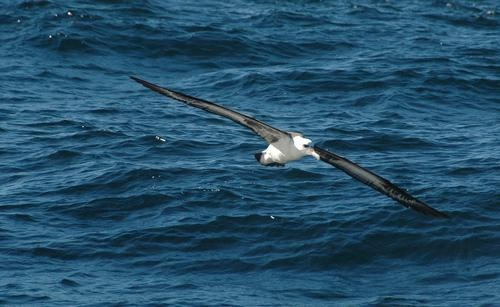bird: (131, 71, 452, 221)
